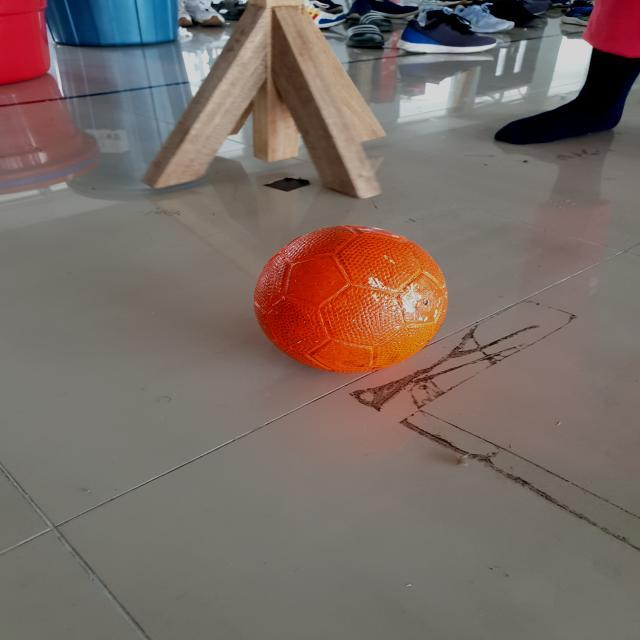bola: (247, 220, 457, 373)
